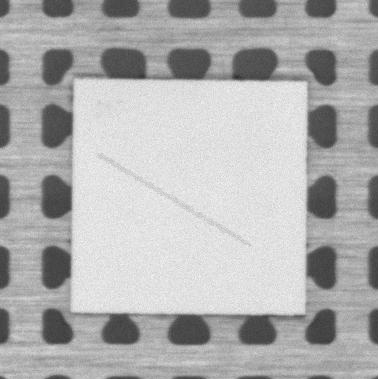DIE_CRACK: (99, 155, 249, 246)
